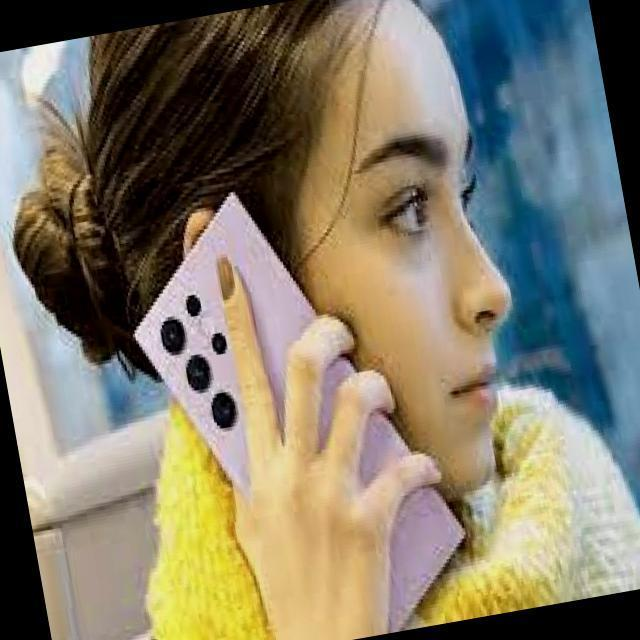phone: (116, 163, 482, 638)
